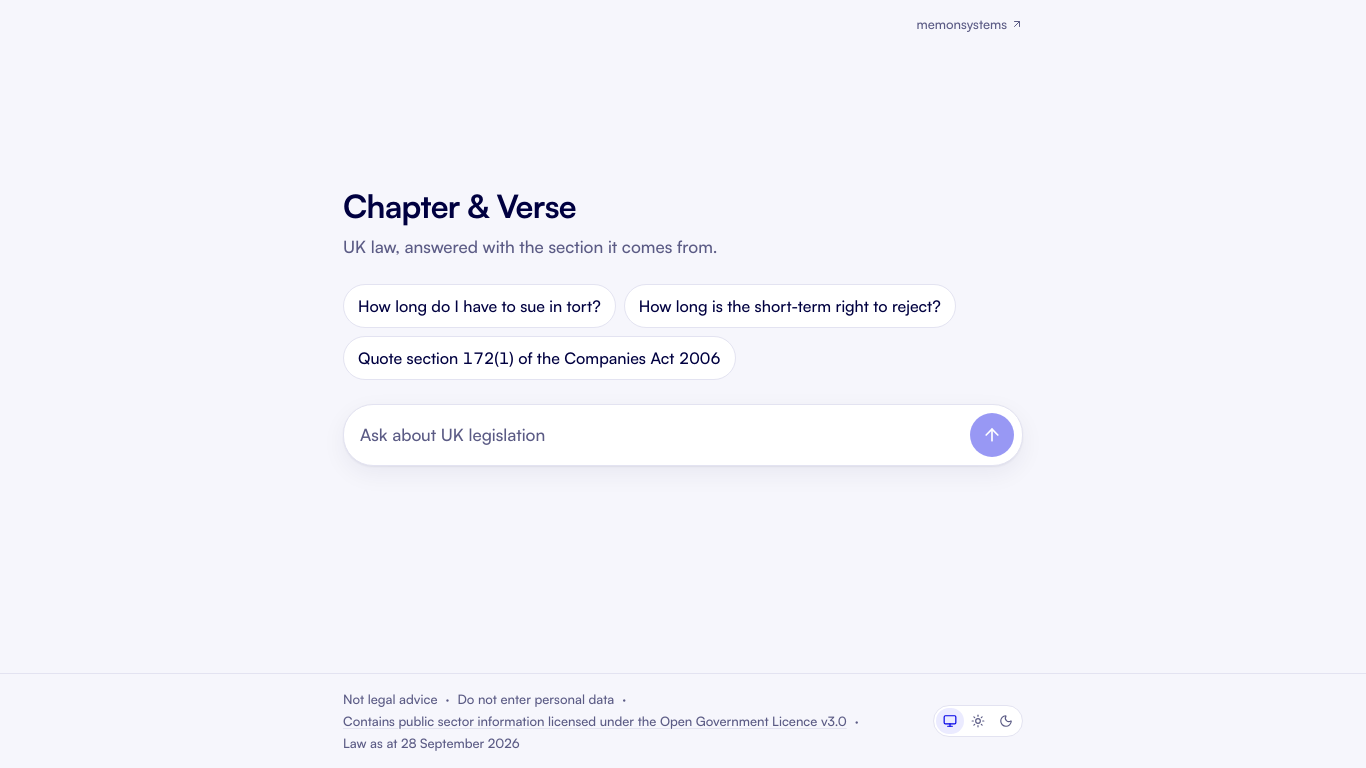
Test case: Choice, Change, Retry, and Conversation State (S1-S7) › displays Using + Change bar when an answer is auto-selected via SourcesEvent
Type "How long to sue in tort?" into the text box with placeholder "Ask about UK legislation" at (661, 435), box [360,413,962,457]
Then press Enter
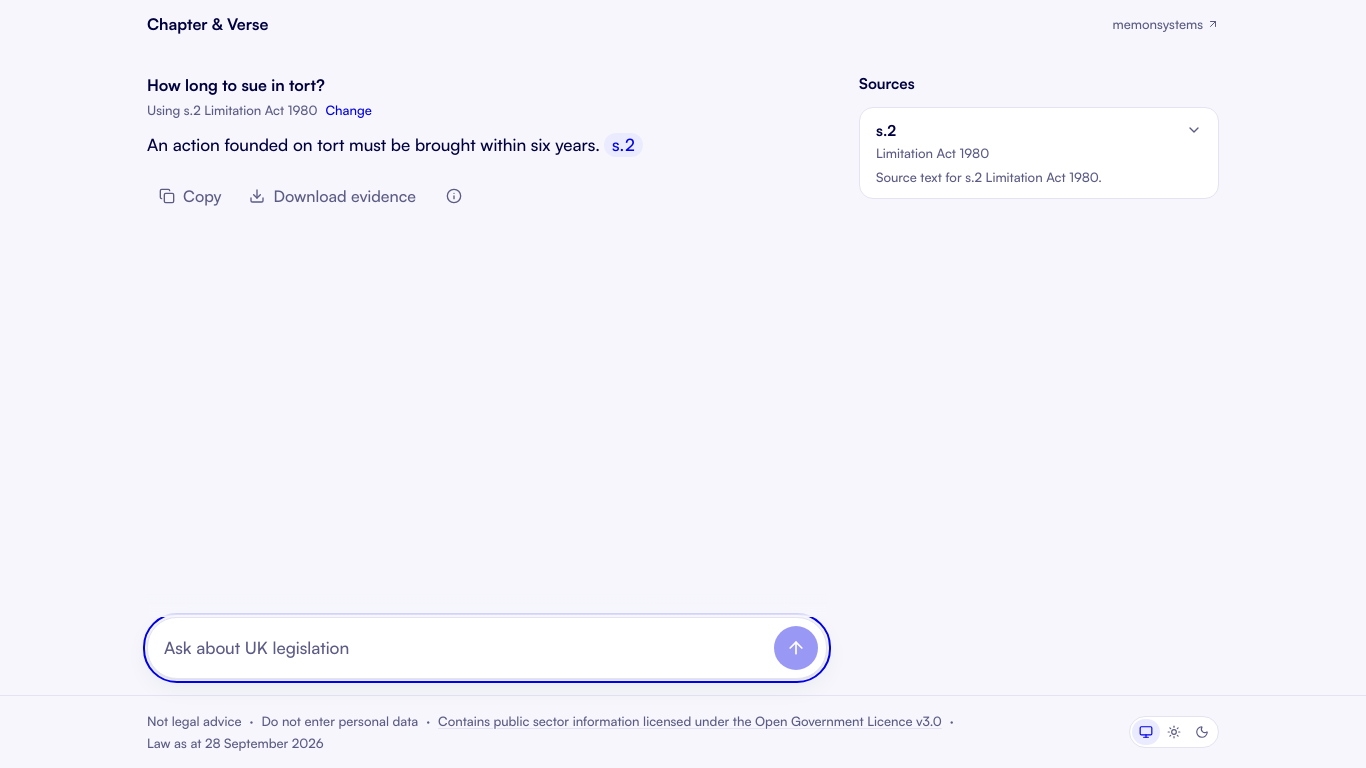
expect the text "An action founded on tort must be brought within six years." is shown: met, box [147,134,600,155]
Click the button "Change" at (349, 110), box [325,101,372,119]
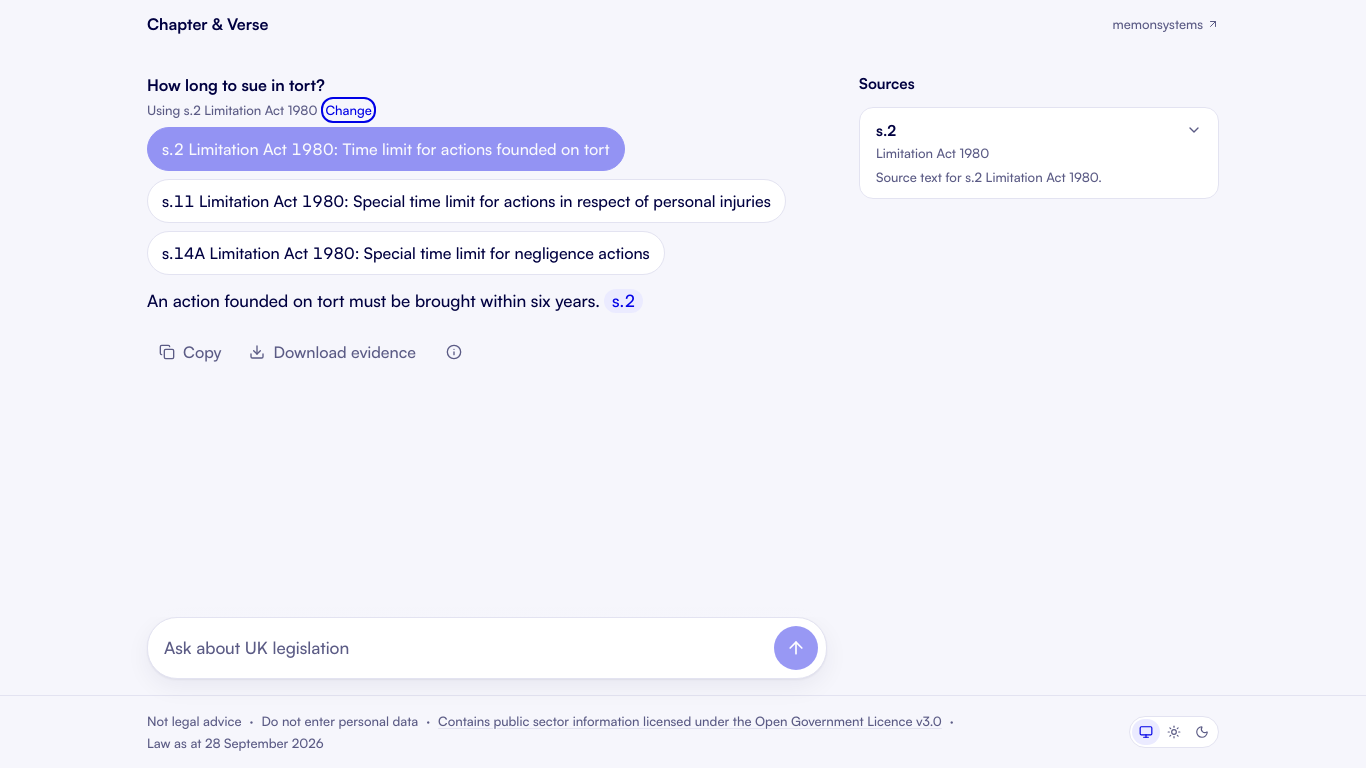
expect the button named "s.11 Limitation Act 1980: Special time limit for actions in respect of personal injuries" is shown: met, box [147,179,786,223]
